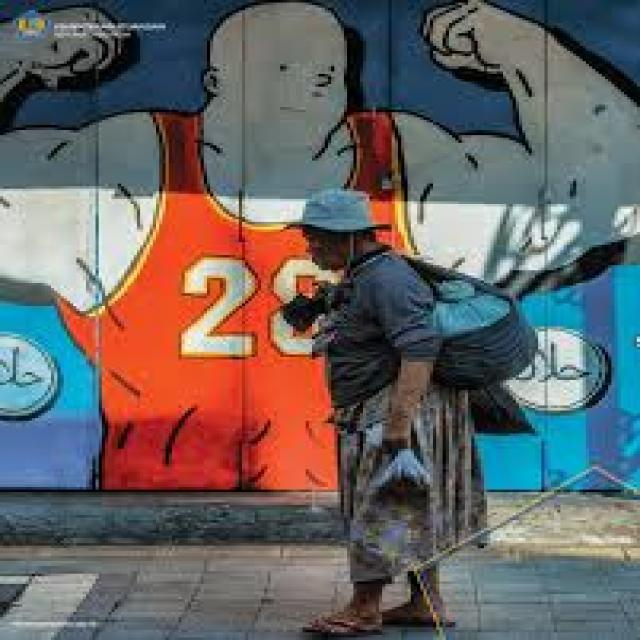-: (2, 0, 640, 490)
